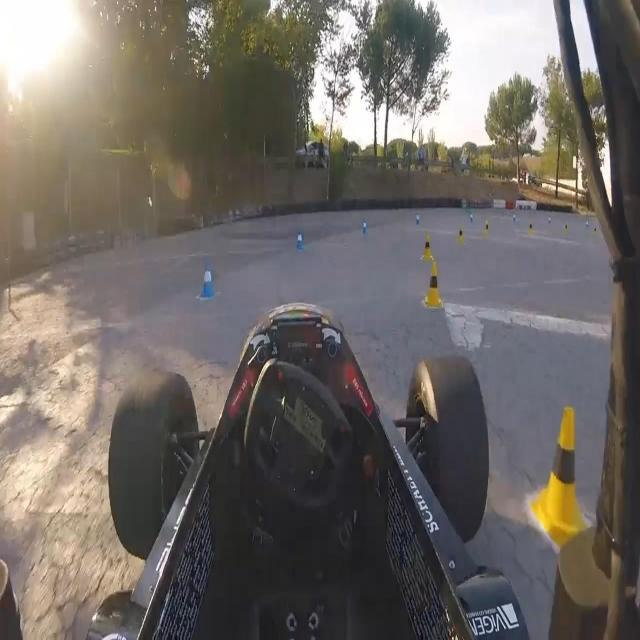blue_cone: (197, 253, 220, 301), (296, 224, 306, 252), (362, 217, 368, 234), (416, 214, 420, 226)
yellow_cone: (530, 398, 591, 548), (424, 263, 444, 310), (421, 233, 433, 264), (484, 216, 491, 241), (528, 215, 535, 238), (458, 223, 464, 245)
